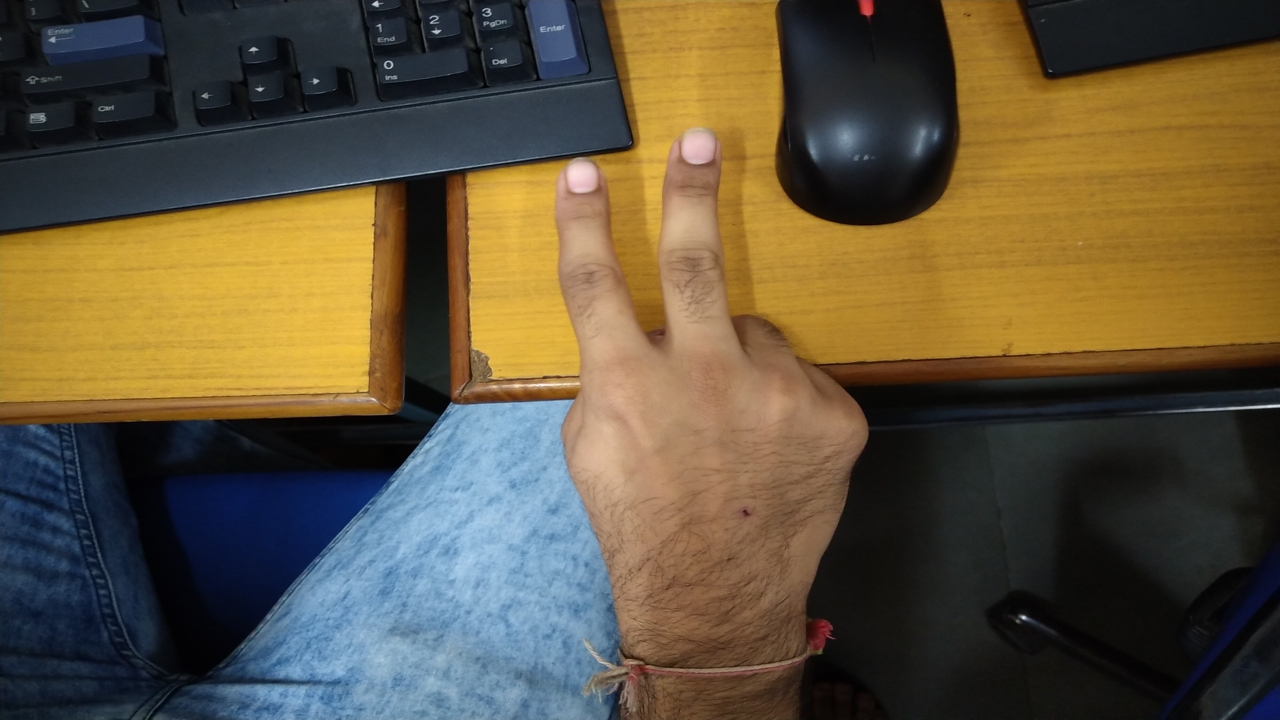fingertip: (548, 148, 612, 210), (658, 120, 728, 176)
